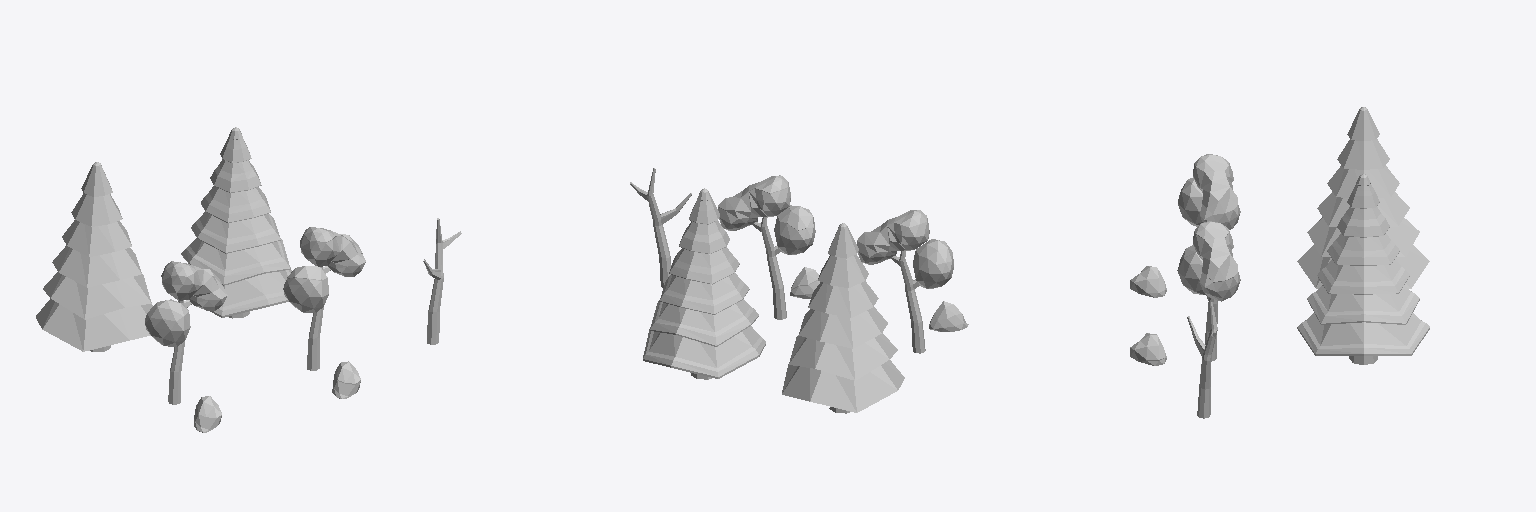
Rendered from Forest Assets.obj.
The picture shows the model from 3 angles: view 1: azimuth 30°, elevation 25°; view 2: azimuth 150°, elevation 25°; view 3: azimuth 270°, elevation 25°; orthographic projection.
Parts seen in each view (by area): view 1: Norm_PineTree_Cylinder, Snow_PineTree_Cylinder.003, Snow_Tree_Leaves_Icosphere.002, Norm_Tree_Leaves_Icosphere, Snow_Tree_Branches_Bare_Cylinder.004, Snow_Rock_Icosphere.004, Norm_Rock_1_Icosphere.003, Norm_Tree_Branches_Cylinder.001, Snow_Tree_Branches_Cylinder.002; view 2: Snow_PineTree_Cylinder.003, Norm_PineTree_Cylinder, Snow_Tree_Leaves_Icosphere.002, Norm_Tree_Leaves_Icosphere, Snow_Tree_Branches_Bare_Cylinder.004, Snow_Tree_Branches_Cylinder.002, Norm_Tree_Branches_Cylinder.001, Norm_Rock_1_Icosphere.003, Snow_Rock_Icosphere.004; view 3: Snow_PineTree_Cylinder.003, Norm_PineTree_Cylinder, Snow_Tree_Leaves_Icosphere.002, Norm_Tree_Leaves_Icosphere, Snow_Tree_Branches_Bare_Cylinder.004, Snow_Rock_Icosphere.004, Norm_Rock_1_Icosphere.003.
Boxes of the visible parts, x1=… form: Norm_PineTree_Cylinder: x1=36, y1=162, x2=152, y2=351; Snow_PineTree_Cylinder.003: x1=181, y1=127, x2=291, y2=318; Snow_Tree_Leaves_Icosphere.002: x1=283, y1=227, x2=365, y2=312; Norm_Tree_Leaves_Icosphere: x1=145, y1=261, x2=227, y2=346; Snow_Tree_Branches_Bare_Cylinder.004: x1=423, y1=218, x2=461, y2=344; Snow_Rock_Icosphere.004: x1=332, y1=361, x2=360, y2=398; Norm_Rock_1_Icosphere.003: x1=194, y1=396, x2=221, y2=432; Norm_Tree_Branches_Cylinder.001: x1=168, y1=300, x2=191, y2=404; Snow_Tree_Branches_Cylinder.002: x1=307, y1=266, x2=330, y2=370; Snow_PineTree_Cylinder.003: x1=643, y1=188, x2=765, y2=379; Norm_PineTree_Cylinder: x1=782, y1=223, x2=904, y2=413; Snow_Tree_Leaves_Icosphere.002: x1=718, y1=175, x2=815, y2=254; Norm_Tree_Leaves_Icosphere: x1=857, y1=210, x2=953, y2=288; Snow_Tree_Branches_Bare_Cylinder.004: x1=630, y1=168, x2=691, y2=287; Snow_Tree_Branches_Cylinder.002: x1=752, y1=217, x2=786, y2=319; Norm_Tree_Branches_Cylinder.001: x1=891, y1=251, x2=925, y2=353; Norm_Rock_1_Icosphere.003: x1=929, y1=301, x2=968, y2=331; Snow_Rock_Icosphere.004: x1=790, y1=267, x2=819, y2=298; Snow_PineTree_Cylinder.003: x1=1297, y1=174, x2=1429, y2=364; Norm_PineTree_Cylinder: x1=1297, y1=107, x2=1429, y2=288; Snow_Tree_Leaves_Icosphere.002: x1=1177, y1=221, x2=1240, y2=301; Norm_Tree_Leaves_Icosphere: x1=1178, y1=154, x2=1240, y2=229; Snow_Tree_Branches_Bare_Cylinder.004: x1=1187, y1=302, x2=1217, y2=418; Snow_Rock_Icosphere.004: x1=1130, y1=333, x2=1166, y2=365; Norm_Rock_1_Icosphere.003: x1=1130, y1=266, x2=1166, y2=297.
Size of the model in its own units: 14.87 by 7.66 by 11.23.